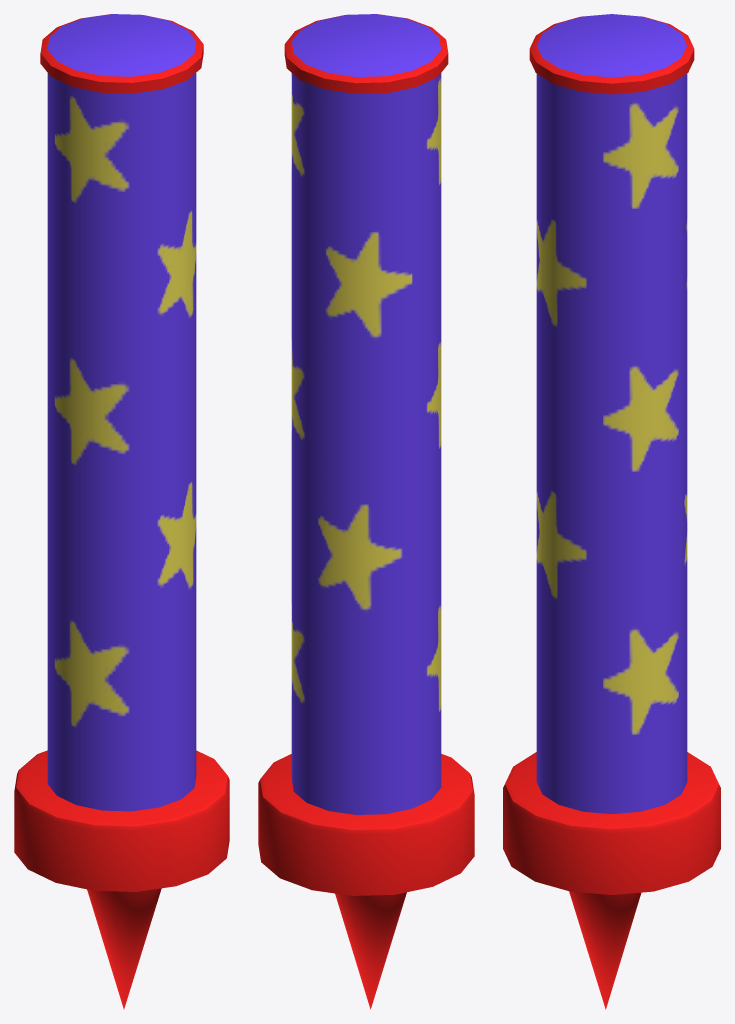
The model's file is candle_bengala_2.glb.
The picture shows the model from 3 angles, left to right: view 1: azimuth 30°, elevation 25°; view 2: azimuth 150°, elevation 25°; view 3: azimuth 270°, elevation 25°; orthographic projection.
Parts seen in each view (by area): view 1: bengala_03; view 2: bengala_03; view 3: bengala_03.
Part boxes in pixels (x1=…): bengala_03: x1=14, y1=14, x2=229, y2=1009; bengala_03: x1=258, y1=14, x2=474, y2=1009; bengala_03: x1=503, y1=14, x2=720, y2=1009.
Size of the model in its own units: 0.2146 by 1.05 by 0.2146.
Materials: 1 (1 with a texture image).
